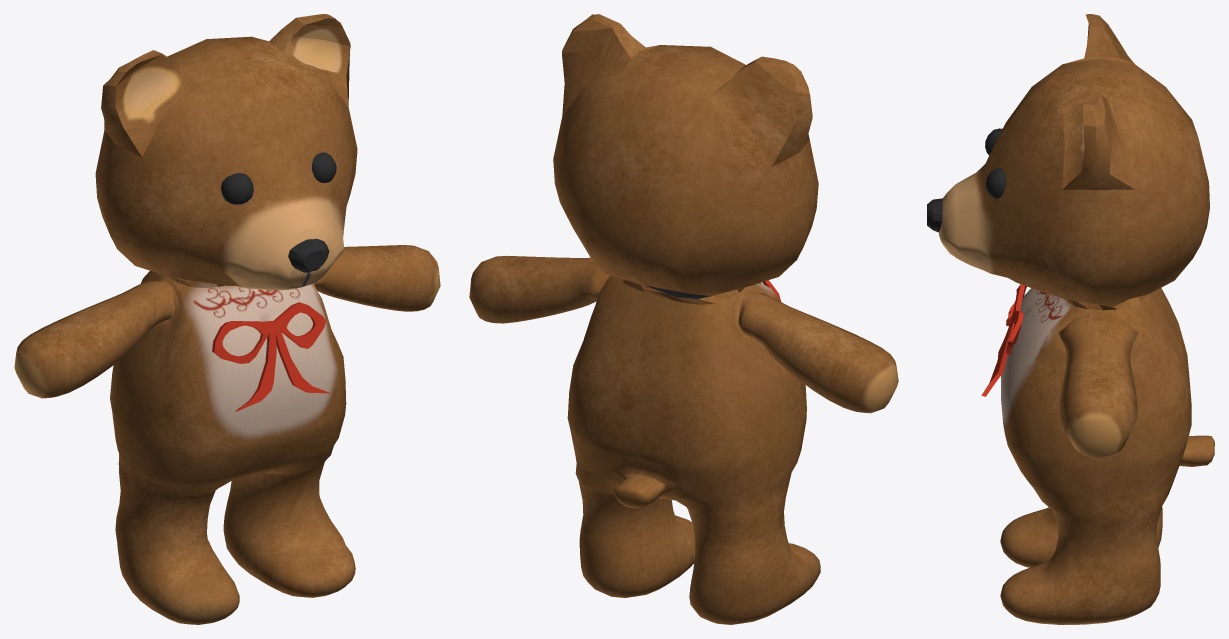
File: bear2.fbx
3 renders of one model, left to right at view 1: azimuth 30°, elevation 25°; view 2: azimuth 150°, elevation 25°; view 3: azimuth 270°, elevation 25°, orthographic. The views are drawn at different scales.
Visible parts, largest first — view 1: polySurface1; view 2: polySurface1; view 3: polySurface1.
Part boxes in pixels (x1,y1,x2,y2): polySurface1: (14,14,440,624); polySurface1: (469,14,898,624); polySurface1: (927,14,1214,624).
Bounding box in the file's own units: 8.32 × 10.59 × 5.19.
2 materials, 1 textured.
